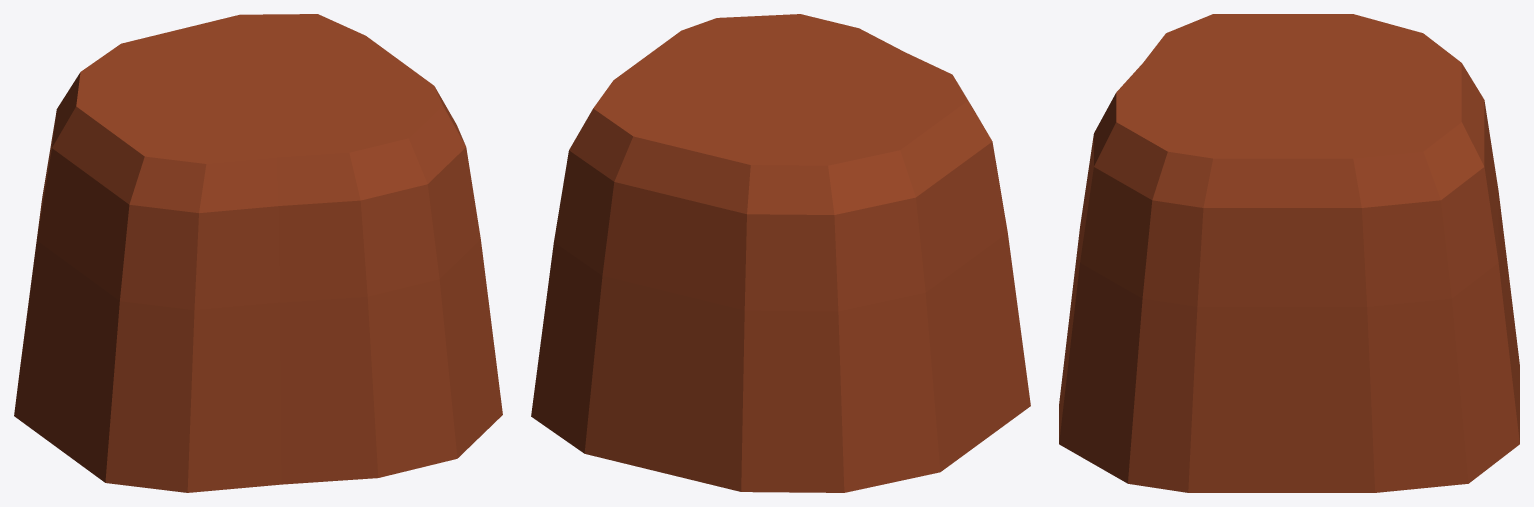
File: TerrainPart3.obj
The picture shows the model from 3 angles, left to right: view 1: azimuth 30°, elevation 25°; view 2: azimuth 150°, elevation 25°; view 3: azimuth 270°, elevation 25°; orthographic projection. The views are drawn at different scales.
Parts seen in each view (by area): view 1: Meshpart1; view 2: Meshpart1; view 3: Meshpart1.
Part boxes in pixels (x1,y1,x2,y2): Meshpart1: [14, 14, 502, 492]; Meshpart1: [531, 14, 1030, 492]; Meshpart1: [1059, 14, 1519, 492].
Size of the model in its own units: 326 by 246 by 329.
